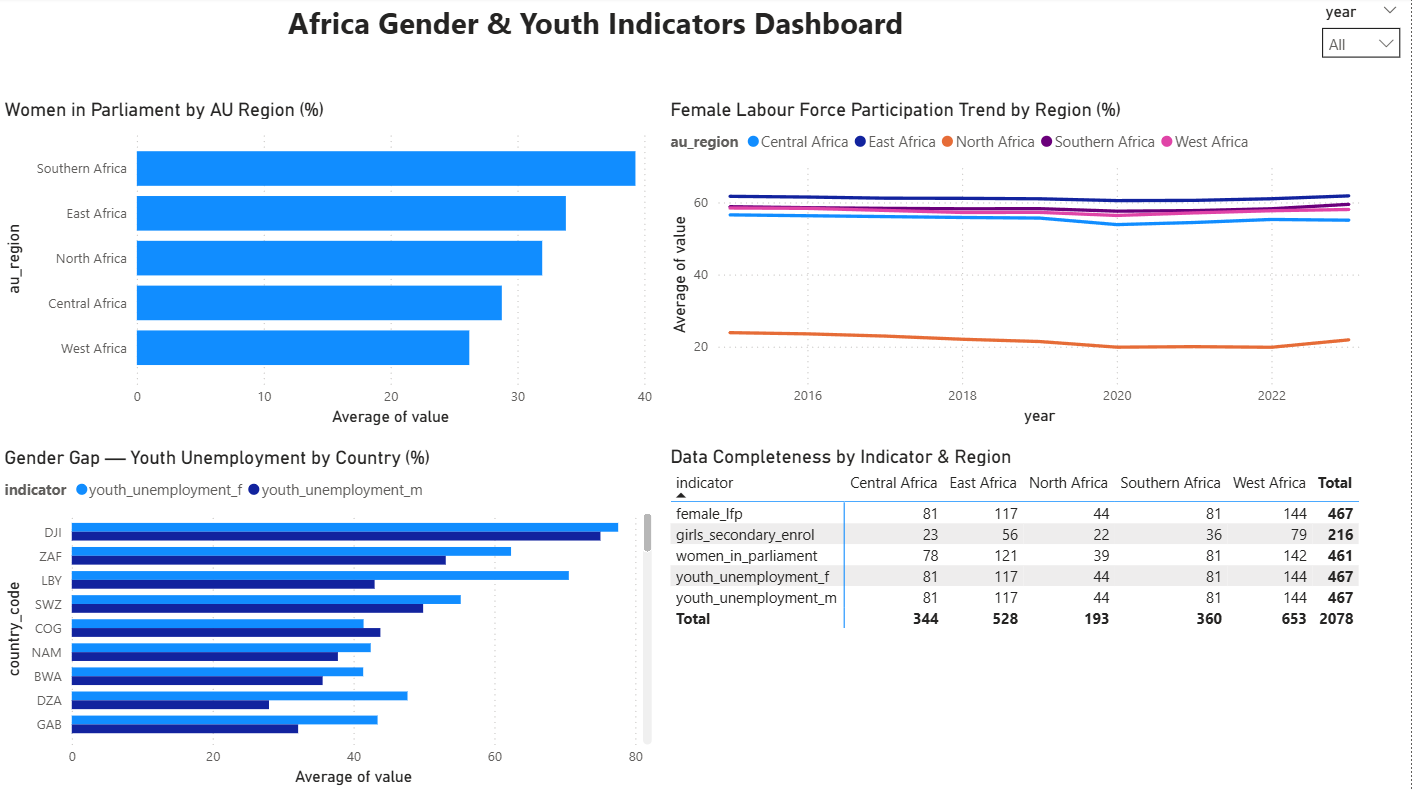

The page's visual inventory and layout, read from the dashboard file:
{"tool":"powerbi","page":{"name":"AU Dashboard","canvas":[1280,720],"ordinal":0},"visuals":[{"type":"slicer","fields":{"Values":["all_indicators.year"]},"box":[1179.8,0,100.2,76.8],"z":0},{"type":"clusteredBarChart","title":"Women in Parliament by AU Region (%)","fields":{"Category":["all_indicators.au_region"],"Y":["Avg(all_indicators.value)"]},"box":[0,91.4,597.2,301.5],"z":1000},{"type":"lineChart","title":"Female Labour Force Participation Trend by Region (%)","fields":{"Y":["Avg(all_indicators.value)"],"Category":["all_indicators.year"],"Series":["all_indicators.au_region"]},"box":[604,91.4,638.1,301.5],"z":2000},{"type":"pivotTable","title":"Data Completeness by Indicator & Region","fields":{"Rows":["all_indicators.indicator"],"Columns":["all_indicators.au_region"],"Values":["CountNonNull(all_indicators.quality_flag)"]},"box":[604,406.6,638.1,313.2],"z":3000},{"type":"textbox","box":[14.6,0,1053.4,68.1],"z":4000},{"type":"clusteredBarChart","title":"Gender Gap — Youth Unemployment by Country (%)","fields":{"Category":["all_indicators.country_code"],"Y":["Avg(all_indicators.value)"],"Series":["all_indicators.indicator"]},"box":[0,407,597,313],"z":5000}]}

Visuals, with their boxes in screenshot pixels (x1, y1, x2, y2), scaled from the page's 1280x720 canvas onto the 1412x789 screenshot:
slicer - all_indicators.year: detection(1301, 0, 1411, 84)
"Women in Parliament by AU Region (%)" clusteredBarChart: detection(0, 100, 659, 431)
"Female Labour Force Participation Trend by Region (%)" lineChart: detection(666, 100, 1370, 431)
"Data Completeness by Indicator & Region" pivotTable: detection(666, 446, 1370, 788)
textbox: detection(16, 0, 1178, 75)
"Gender Gap — Youth Unemployment by Country (%)" clusteredBarChart: detection(0, 446, 659, 788)
